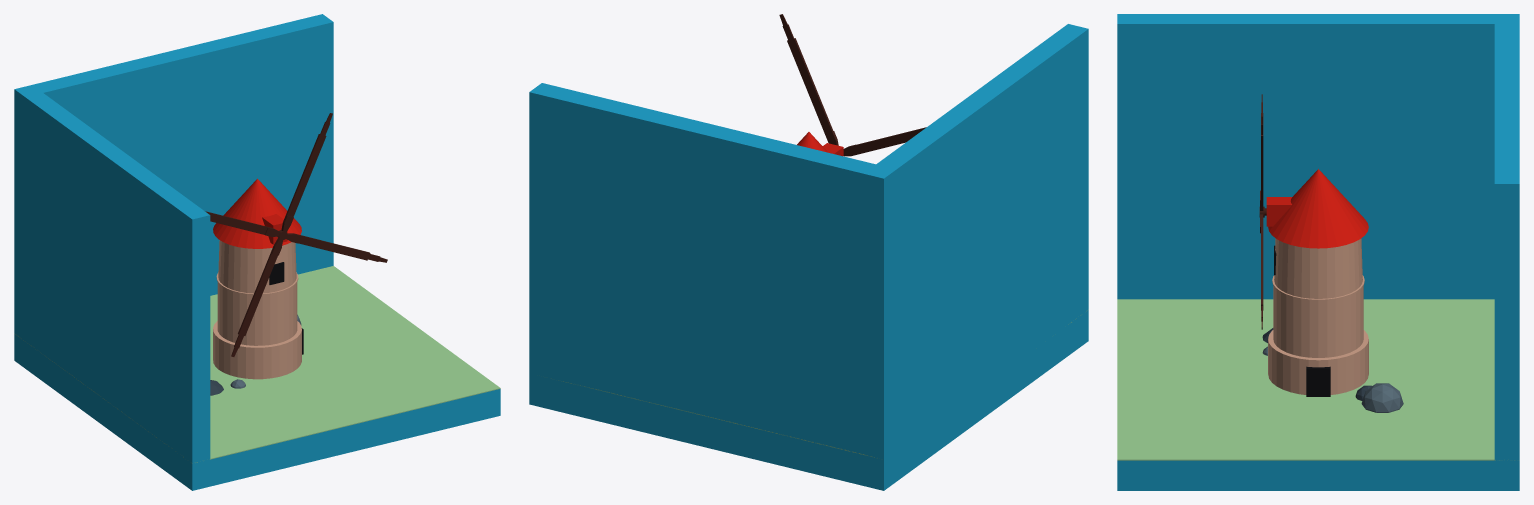
The model's file is windmill.obj.
3 renders of one model, left to right at view 1: azimuth 30°, elevation 25°; view 2: azimuth 150°, elevation 25°; view 3: azimuth 270°, elevation 25°, orthographic. The views are drawn at different scales.
Visible parts, largest first — view 1: Plane, Plane.001, Cylinder, Cone, Cube.004_Cube.005, Cube.005_Cube.006, Cube.006_Cube.007, Cube.003_Cube.004; view 2: Plane, Cube.004_Cube.005, Cube.003_Cube.004; view 3: Plane, Plane.001, Cylinder, Cone, Icosphere, Cube_Cube.001, Cube.002_Cube.003.
Part boxes in pixels (x1,y1,x2,y2): Plane: (14, 14, 500, 490); Plane.001: (14, 266, 500, 463); Cylinder: (213, 240, 301, 379); Cone: (213, 178, 301, 248); Cube.004_Cube.005: (281, 113, 332, 231); Cube.005_Cube.006: (231, 238, 282, 356); Cube.006_Cube.007: (286, 233, 387, 262); Cube.003_Cube.004: (205, 211, 280, 236); Plane: (529, 24, 1088, 490); Cube.004_Cube.005: (779, 14, 838, 145); Cube.003_Cube.004: (843, 127, 926, 156); Plane: (1117, 14, 1519, 490); Plane.001: (1117, 299, 1514, 460); Cylinder: (1268, 238, 1368, 394); Cone: (1268, 169, 1368, 248); Icosphere: (1361, 383, 1403, 412); Cube_Cube.001: (1306, 366, 1330, 396); Cube.002_Cube.003: (1266, 197, 1291, 226).
Size of the model in its own units: 7.99 by 6.98 by 7.99.
